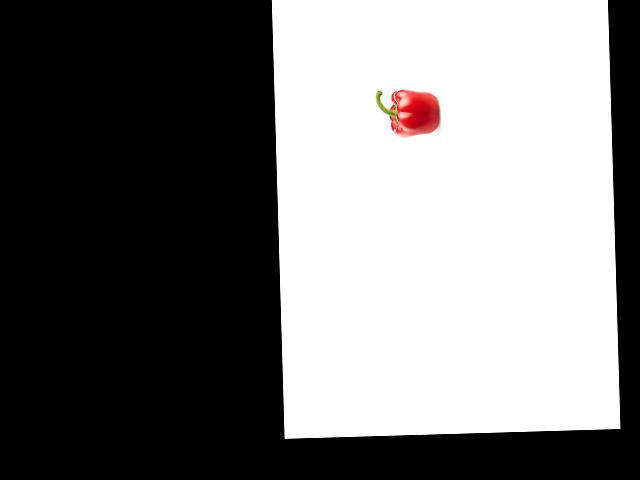bell_pepper: (375, 87, 440, 136)
